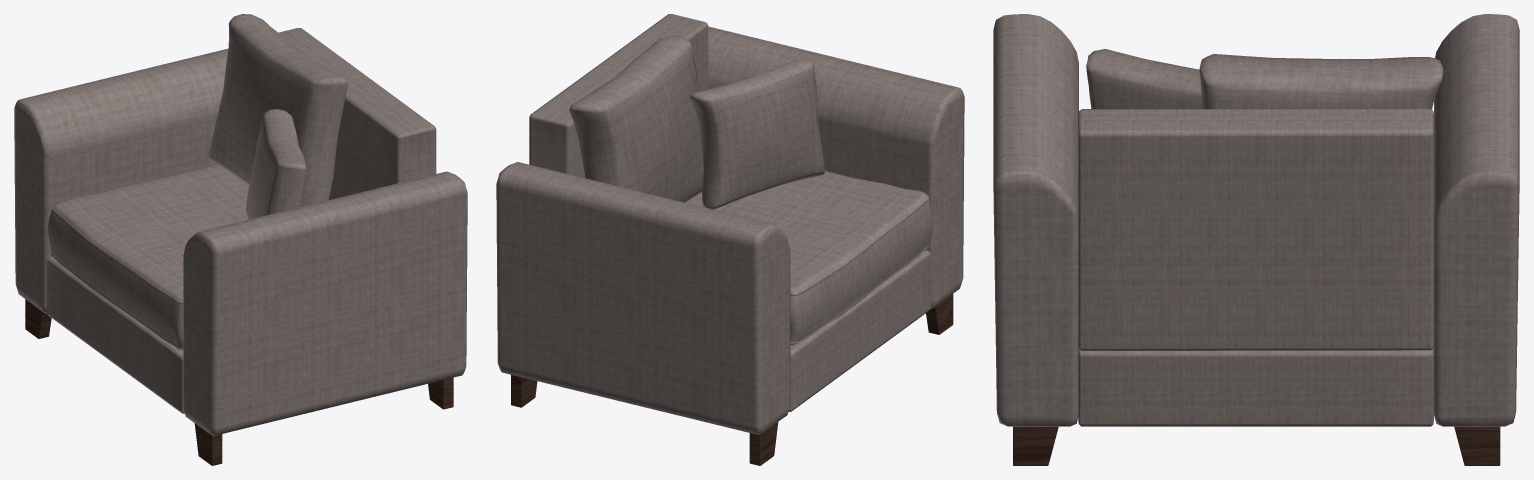
The model's file is Sofa2.fbx.
3 views of the same model, side by side, from view 1: azimuth 30°, elevation 25°; view 2: azimuth 150°, elevation 25°; view 3: azimuth 270°, elevation 25° (orthographic). The views are drawn at different scales.
Parts seen in each view (by area): view 1: dessous.008; view 2: dessous.008; view 3: dessous.008.
Part boxes in pixels (x1,y1,x2,y2): dessous.008: (14,14,467,465); dessous.008: (496,14,964,465); dessous.008: (993,14,1519,465).
Size of the model in its own units: 98.25 by 103 by 132.
1 material, 1 textured.
